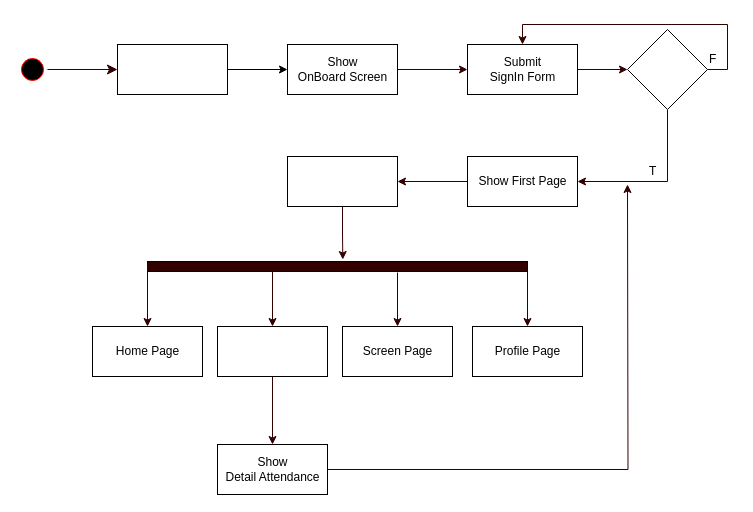
Image size: 753x512. Some labels were removed from this diagram. Here are the shapes that lost their labels. From the top down, the centre of each, then its label:
point 172,69: Open the Apps
point 342,181: Choose Menu
point 272,351: Attendance Page
